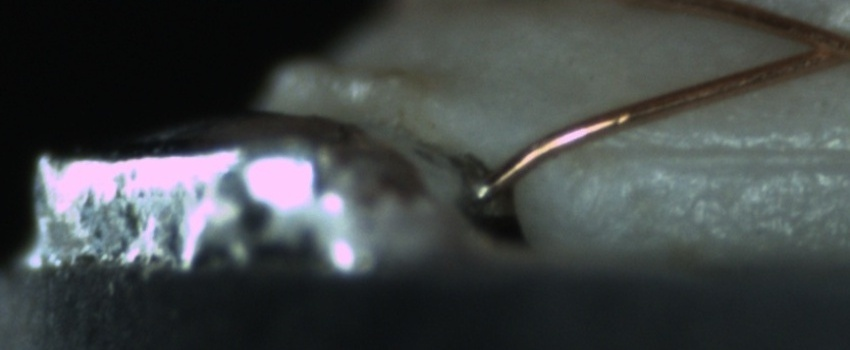CL: (774, 13, 850, 75)
DL: (603, 121, 846, 189)
